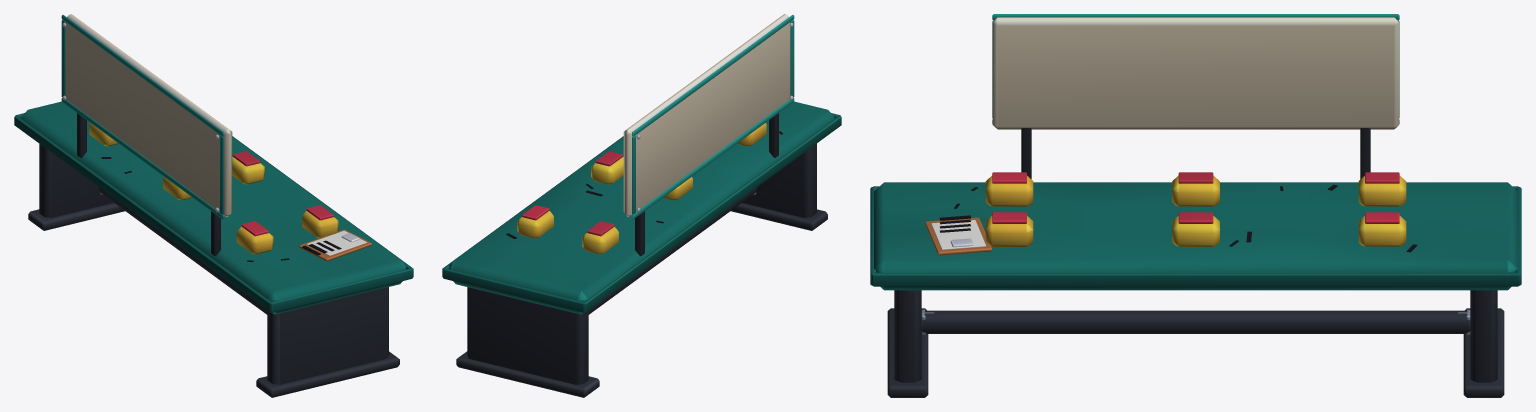
File: SM_Station_ReelTray.fbx
3 renders of one model, left to right at view 1: azimuth 30°, elevation 25°; view 2: azimuth 150°, elevation 25°; view 3: azimuth 270°, elevation 25°, orthographic. The views are drawn at different scales.
Visible parts, largest first — view 1: SM_Station_ReelTray; view 2: SM_Station_ReelTray; view 3: SM_Station_ReelTray.
Boxes of the visible parts, x1,y1,x2,y2 form: SM_Station_ReelTray: (14, 14, 413, 397); SM_Station_ReelTray: (442, 14, 841, 397); SM_Station_ReelTray: (870, 14, 1521, 397).
Bounding box in the file's own units: 63.09 × 98.13 × 192.
